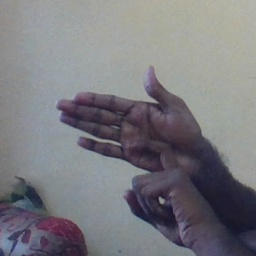R: (55, 62, 202, 205)
